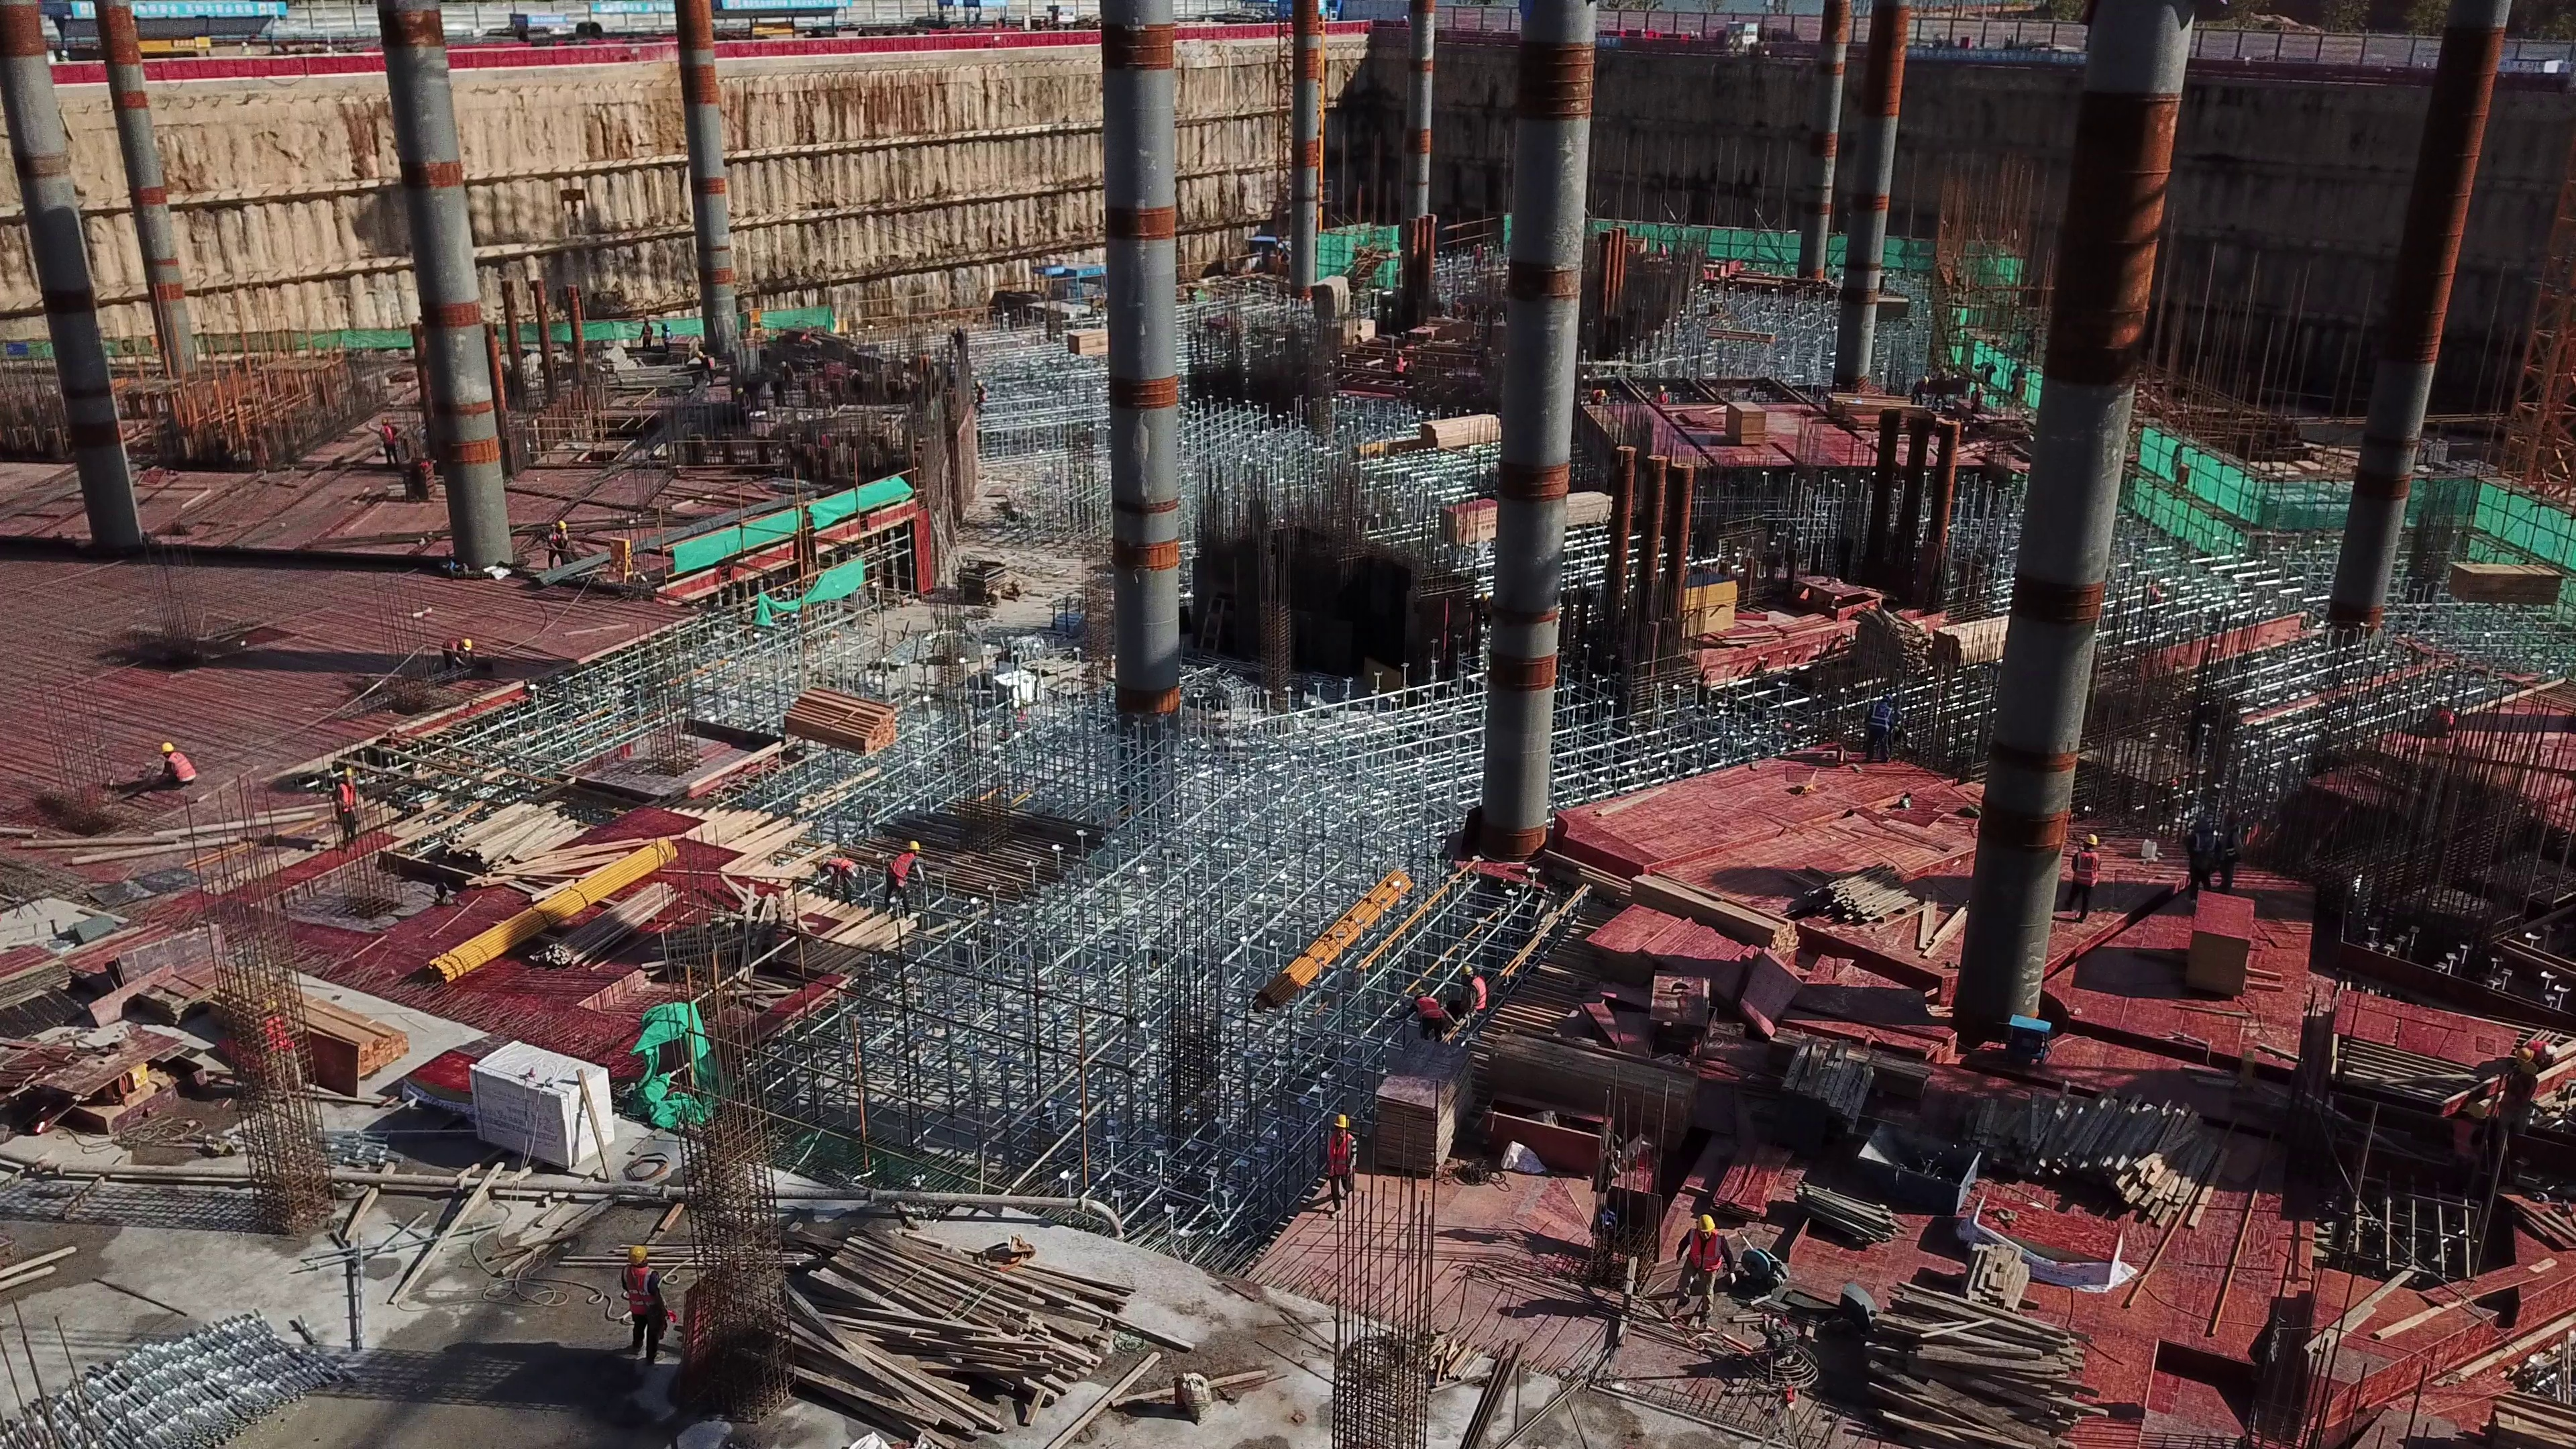board: (1513, 1022, 1684, 1128), (1601, 911, 1770, 1003), (91, 928, 210, 1016), (1370, 1046, 1456, 1152), (2184, 890, 2253, 998), (1, 941, 91, 1018), (1438, 491, 1493, 552), (1722, 399, 1773, 451)
cutter: (1739, 1242, 1792, 1292)
ebox: (600, 537, 636, 582)
fence: (1593, 1, 2573, 88), (12, 38, 676, 93), (704, 22, 1113, 60), (1149, 17, 1400, 40), (1421, 7, 1519, 50)
helmet: (2077, 828, 2102, 853), (1693, 1214, 1721, 1236), (1332, 1112, 1354, 1131), (625, 1244, 647, 1259), (460, 637, 475, 656), (160, 741, 174, 758), (904, 840, 923, 851)
person: (606, 1243, 671, 1371), (2482, 1030, 2544, 1154), (1674, 1214, 1730, 1318), (1316, 1110, 1361, 1219), (880, 838, 923, 916), (2068, 830, 2100, 933), (1858, 688, 1900, 761), (323, 767, 357, 855), (808, 854, 858, 912), (1405, 985, 1450, 1046), (154, 741, 201, 796), (1450, 961, 1484, 1029), (544, 522, 578, 583), (437, 633, 474, 676), (372, 417, 399, 470)
scaffold: (30, 1307, 358, 1449)
vest: (614, 1265, 676, 1322), (1322, 1134, 1356, 1186), (1686, 1234, 1725, 1274), (2072, 849, 2099, 894), (168, 751, 196, 788), (1414, 997, 1447, 1028), (1866, 702, 1890, 741), (1471, 983, 1489, 1016)
wood: (776, 1231, 1138, 1408), (1838, 1283, 2092, 1449), (1993, 1095, 2224, 1231), (235, 970, 405, 1080), (1782, 1046, 1892, 1159), (1823, 875, 1960, 952), (444, 810, 582, 877), (782, 687, 897, 754), (1924, 612, 2013, 691), (1417, 408, 1507, 449)
